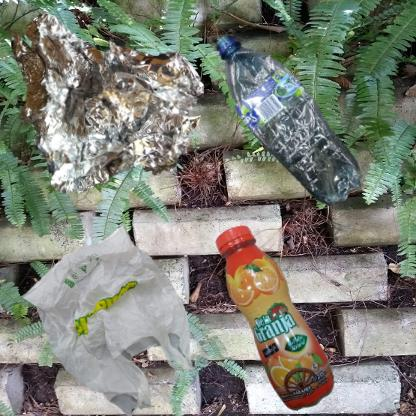aluminio: (10, 10, 206, 195)
bolsa: (10, 213, 213, 416)
botella: (213, 10, 386, 252), (213, 213, 354, 416)
